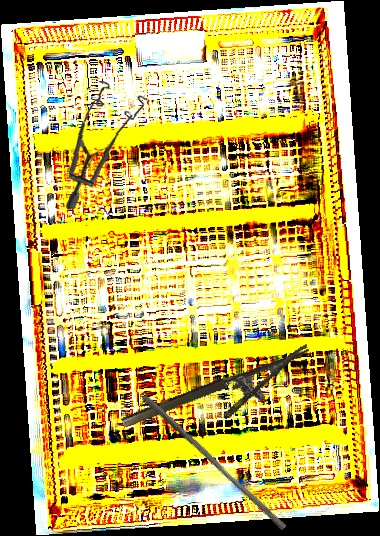Needle Holder: (119, 344, 322, 454)
Pusher: (136, 393, 292, 532)
Speculum: (58, 78, 154, 210)
